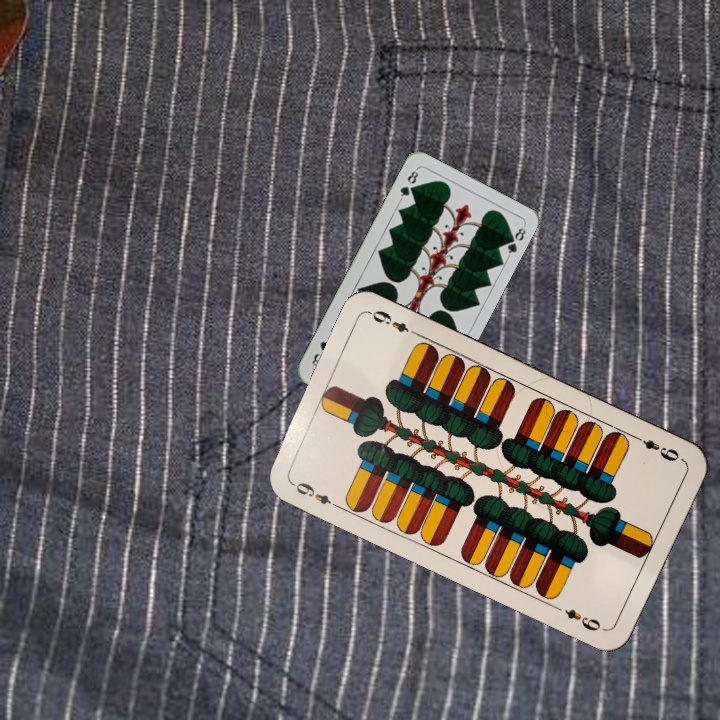E9: (287, 478, 342, 511), (629, 431, 683, 464)
G8: (396, 165, 421, 203)
